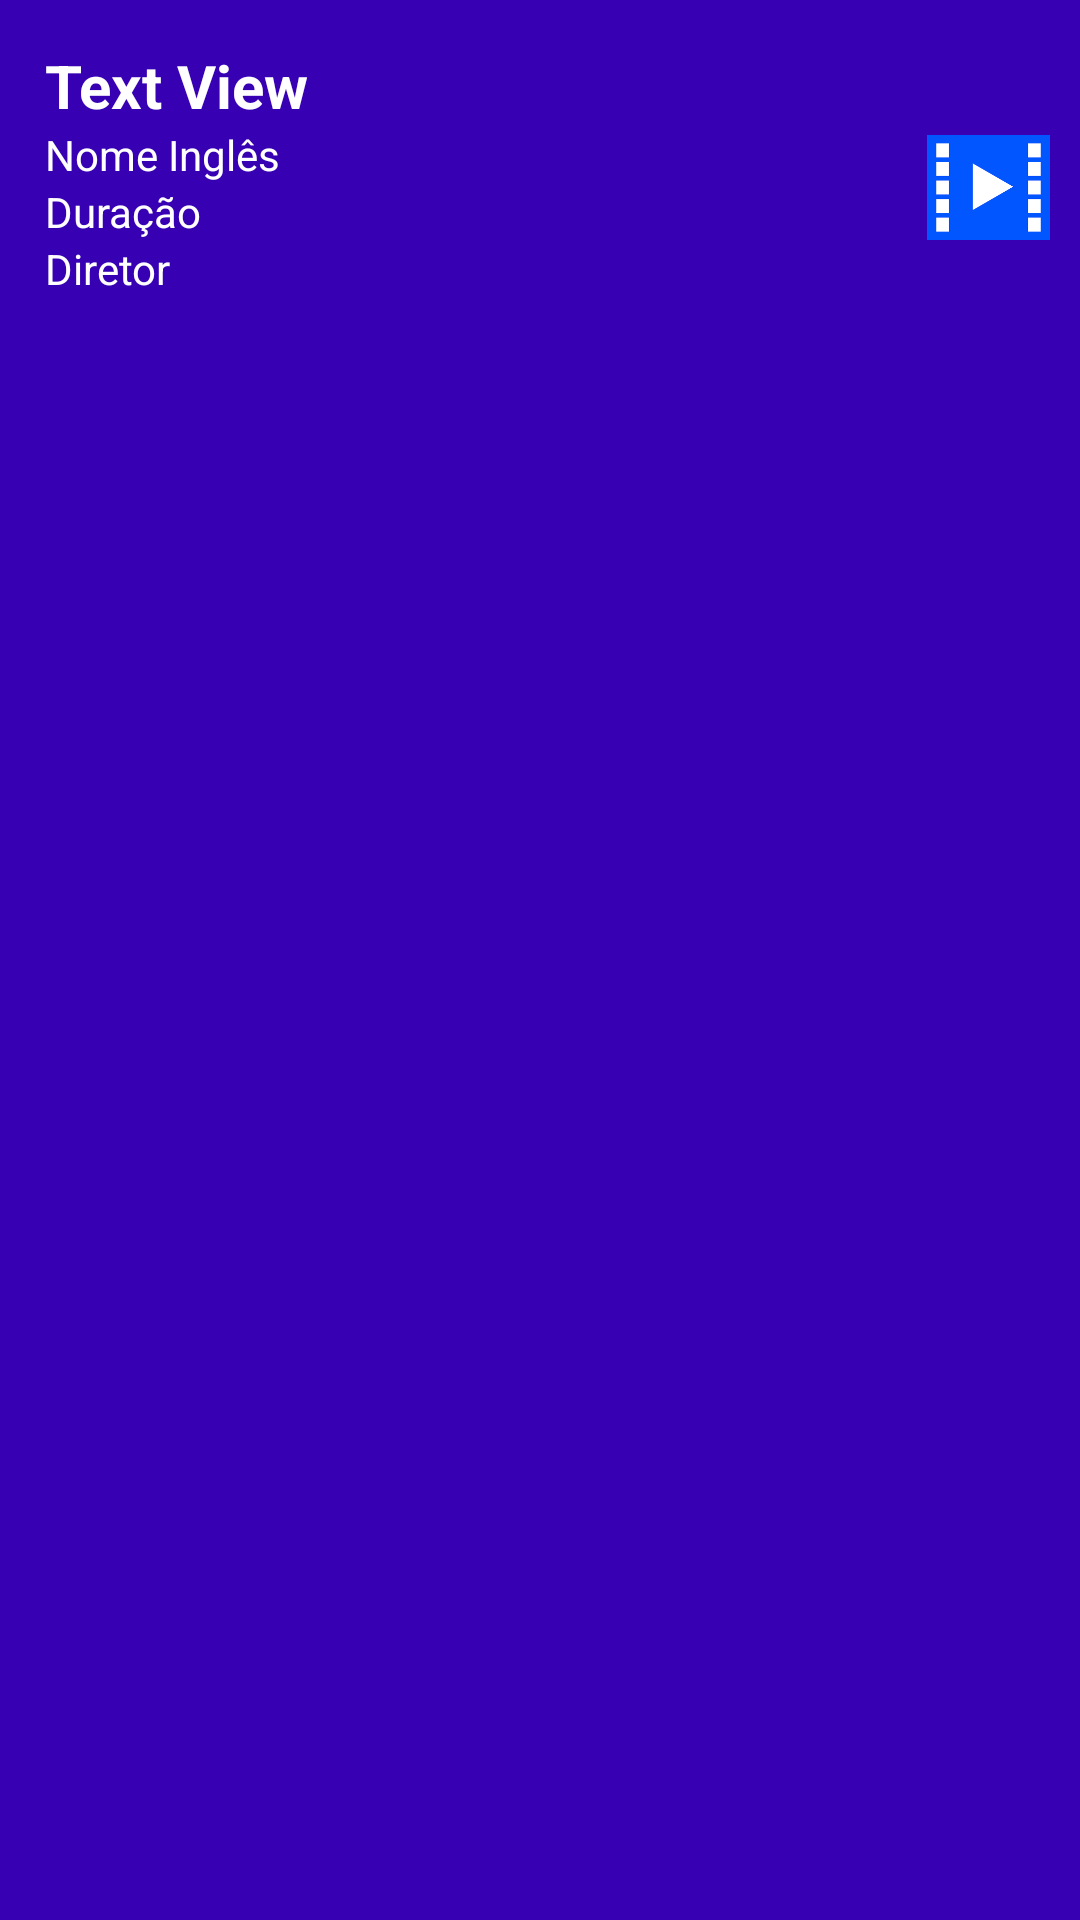

Named icons in this screenshot (1080px×1920px) and their centers, [x,y]:
iconevideo: [988,187]
